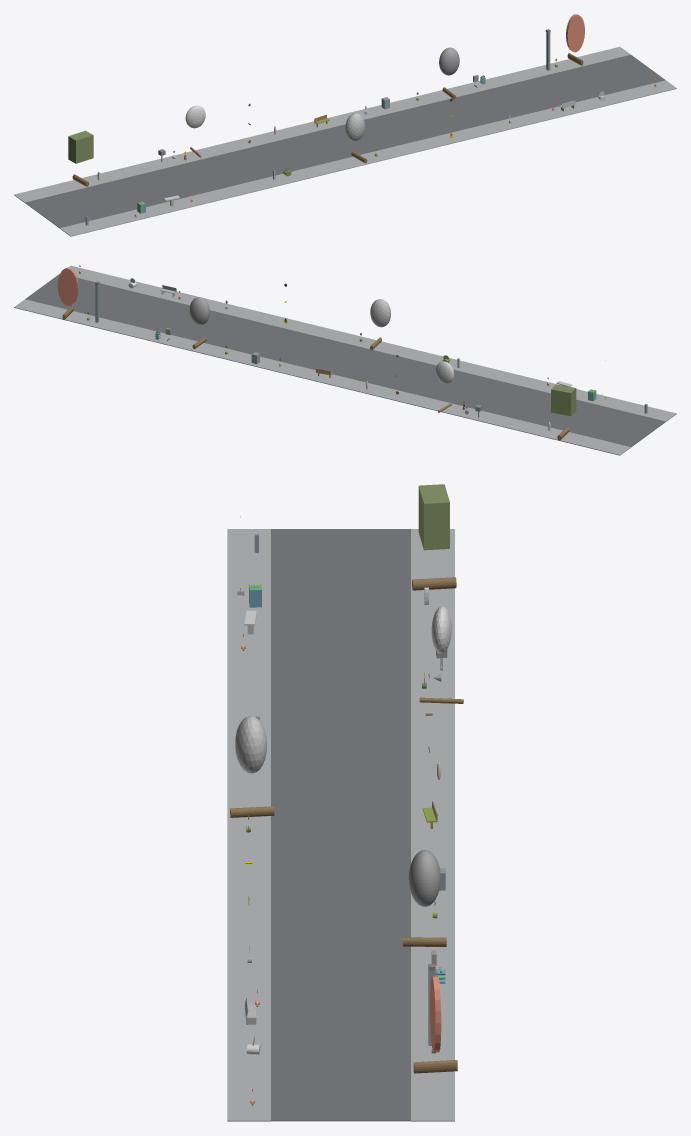
3 views of the same model, one above another, from view 1: azimuth 30°, elevation 25°; view 2: azimuth 150°, elevation 25°; view 3: azimuth 270°, elevation 25° (orthographic). The views are drawn at different scales.
Visible parts, largest first — view 1: road_slab, sidewalk_left, sidewalk_right, inst_0012, inst_0016, inst_0015, inst_0014, inst_0013; view 2: road_slab, sidewalk_right, sidewalk_left, inst_0012, inst_0016, inst_0014, inst_0015, inst_0013; view 3: road_slab, sidewalk_left, sidewalk_right, inst_0012, inst_0014, inst_0015, inst_0016, inst_0013.
Part boxes in pixels (x1=…): road_slab: x1=25, y1=54, x2=665, y2=228; sidewalk_left: x1=60, y1=80, x2=676, y2=236; sidewalk_right: x1=14, y1=46, x2=630, y2=202; inst_0012: x1=68, y1=130, x2=93, y2=186; inst_0016: x1=566, y1=14, x2=584, y2=65; inst_0015: x1=439, y1=47, x2=459, y2=99; inst_0014: x1=345, y1=113, x2=367, y2=163; inst_0013: x1=185, y1=105, x2=205, y2=157; road_slab: x1=25, y1=274, x2=665, y2=447; sidewalk_right: x1=14, y1=299, x2=630, y2=455; sidewalk_left: x1=68, y1=265, x2=676, y2=421; inst_0012: x1=551, y1=384, x2=576, y2=440; inst_0016: x1=57, y1=267, x2=78, y2=319; inst_0014: x1=370, y1=299, x2=391, y2=350; inst_0015: x1=189, y1=297, x2=209, y2=349; inst_0013: x1=435, y1=361, x2=454, y2=412; road_slab: x1=271, y1=529, x2=410, y2=1121; sidewalk_left: x1=227, y1=529, x2=270, y2=1121; sidewalk_right: x1=411, y1=529, x2=454, y2=1121; inst_0012: x1=412, y1=484, x2=456, y2=590; inst_0014: x1=230, y1=716, x2=274, y2=817; inst_0015: x1=403, y1=850, x2=446, y2=946; inst_0016: x1=413, y1=976, x2=457, y2=1073; inst_0013: x1=419, y1=606, x2=463, y2=703.
Size of the model in its own units: 80 by 6.08 by 13.5.
